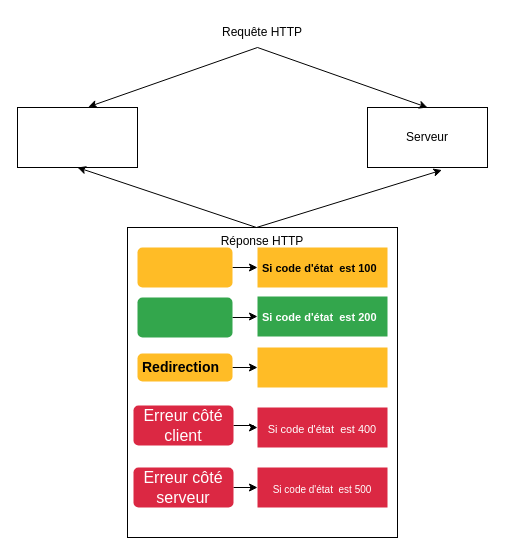
Some shapes in this 505 by 555 pixel diagram are drawn without their labels. The shapes that lost their labels are listed below. From the top down, each one's centre as x and y in pixels, then its label:
At point (77, 137): "Client".
At point (184, 267): "Warning".
At point (184, 317): "Success".
At point (322, 367): "Si code d'état est 300".
